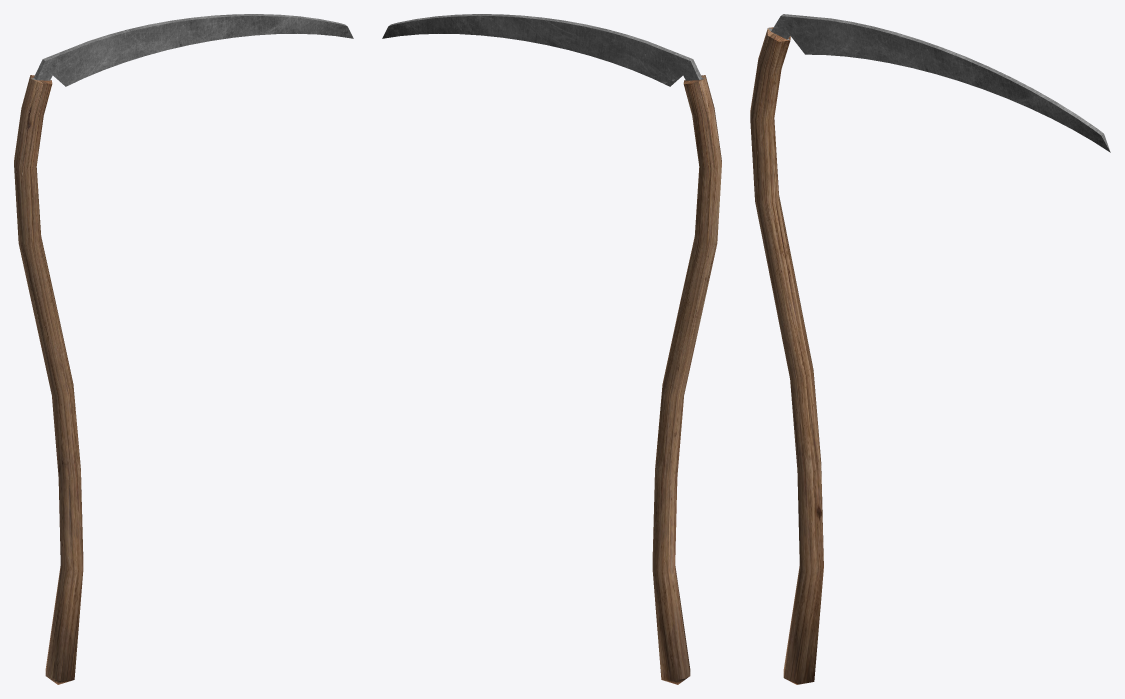
The model's file is Tool_Scythe.glb.
3 renders of one model, left to right at view 1: azimuth 30°, elevation 25°; view 2: azimuth 150°, elevation 25°; view 3: azimuth 330°, elevation 25°, orthographic. The views are drawn at different scales.
Parts seen in each view (by area): view 1: Tool_Scythe; view 2: Tool_Scythe; view 3: Tool_Scythe.
Part boxes in pixels (x1,y1,x2,y2): Tool_Scythe: (14, 14, 353, 684); Tool_Scythe: (382, 14, 721, 684); Tool_Scythe: (750, 14, 1110, 684).
Bounding box in the file's own units: 0.9491 × 1.7 × 0.0709.
1 material, 1 textured.
